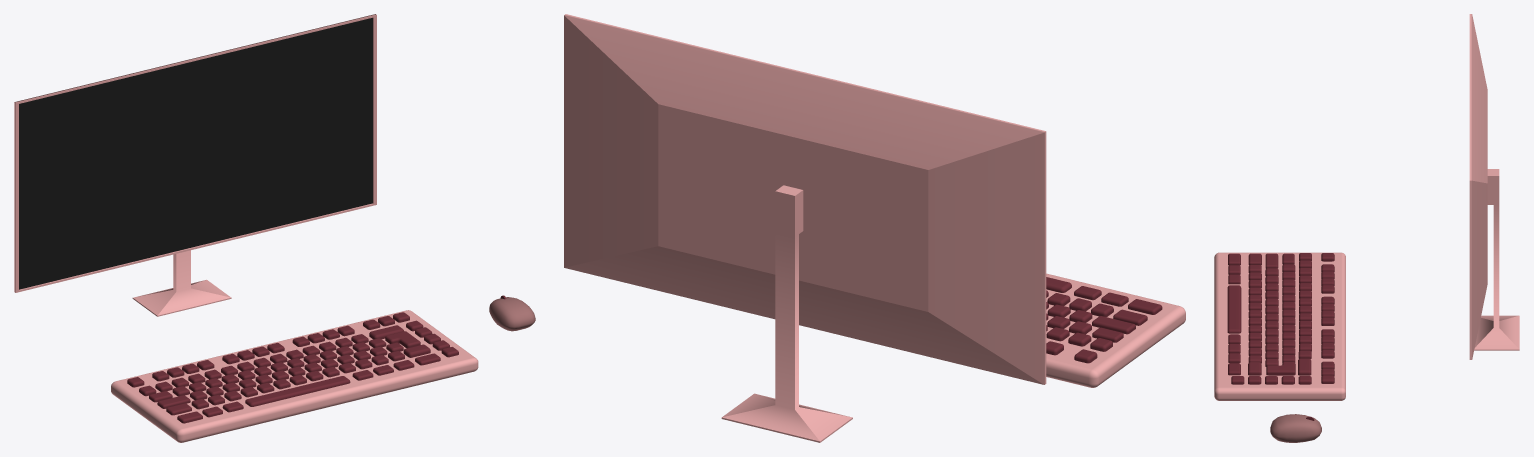
File: EditedComputer.glb
The picture shows the model from 3 angles, left to right: view 1: azimuth 30°, elevation 25°; view 2: azimuth 150°, elevation 25°; view 3: azimuth 270°, elevation 25°; orthographic projection. The views are drawn at different scales.
Visible parts, largest first — view 1: tv:pCube1, pCube94, pCylinder2; view 2: tv:pCube1, pCube94; view 3: pCube94, tv:pCube1, pCylinder2.
Boxes of the visible parts, left/top/right/bottom form: tv:pCube1: left=14, top=14, right=376, bottom=316; pCube94: left=111, top=310, right=478, bottom=442; pCylinder2: left=489, top=295, right=535, bottom=331; tv:pCube1: left=564, top=14, right=1046, bottom=442; pCube94: left=1046, top=273, right=1185, bottom=387; pCube94: left=1214, top=252, right=1345, bottom=400; tv:pCube1: left=1469, top=14, right=1519, bottom=359; pCylinder2: left=1270, top=414, right=1321, bottom=442.
Bounding box in the file's own units: 3.61 × 2.08 × 2.41.
